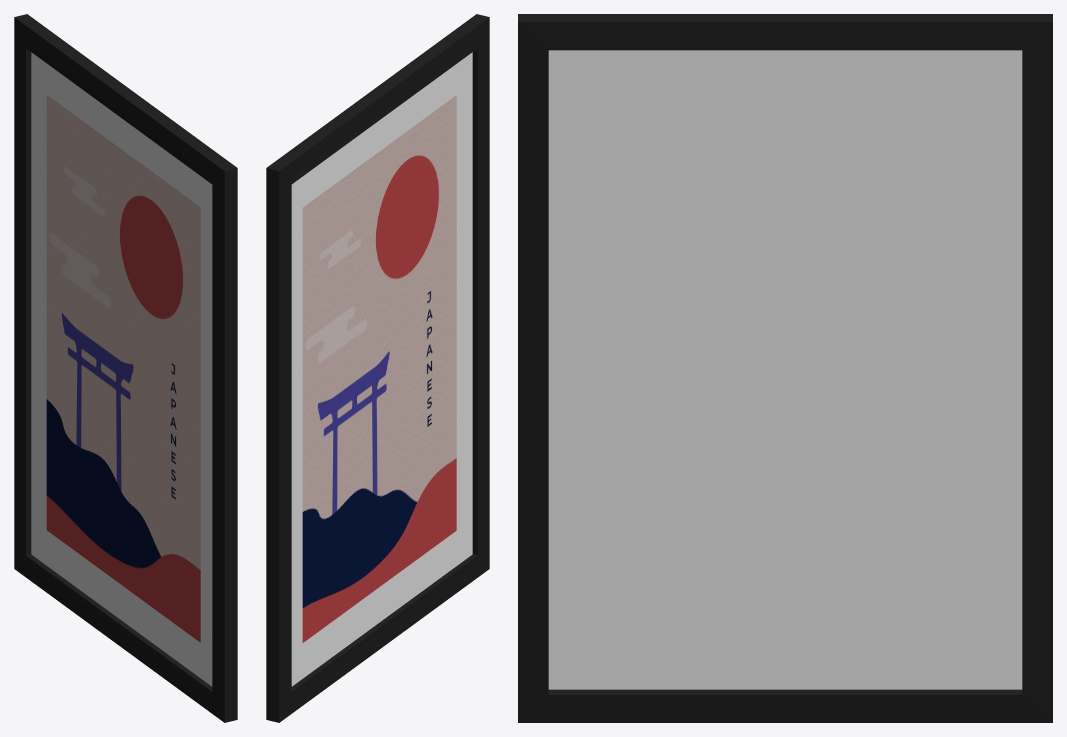
The model's file is frame1.glb.
3 renders of one model, left to right at view 1: azimuth 30°, elevation 25°; view 2: azimuth 150°, elevation 25°; view 3: azimuth 270°, elevation 25°, orthographic. The views are drawn at different scales.
Visible parts, largest first — view 1: 123_6764875_3439667_0, 123_Material.002_0, 123_Material.001_0; view 2: 123_6764875_3439667_0, 123_Material.002_0, 123_Material.001_0; view 3: 123_Material.001_0, 123_Material.002_0.
Part boxes in pixels (bbox=[...]): 123_6764875_3439667_0: bbox=[46, 95, 200, 642]; 123_Material.002_0: bbox=[14, 14, 237, 722]; 123_Material.001_0: bbox=[31, 52, 212, 686]; 123_6764875_3439667_0: bbox=[302, 95, 456, 642]; 123_Material.002_0: bbox=[266, 14, 489, 722]; 123_Material.001_0: bbox=[291, 52, 472, 686]; 123_Material.001_0: bbox=[548, 50, 1022, 689]; 123_Material.002_0: bbox=[518, 14, 1052, 722].
Size of the model in its own units: 0.0263 by 1.02 by 0.7072.
Materials: 3 (1 with a texture image).
